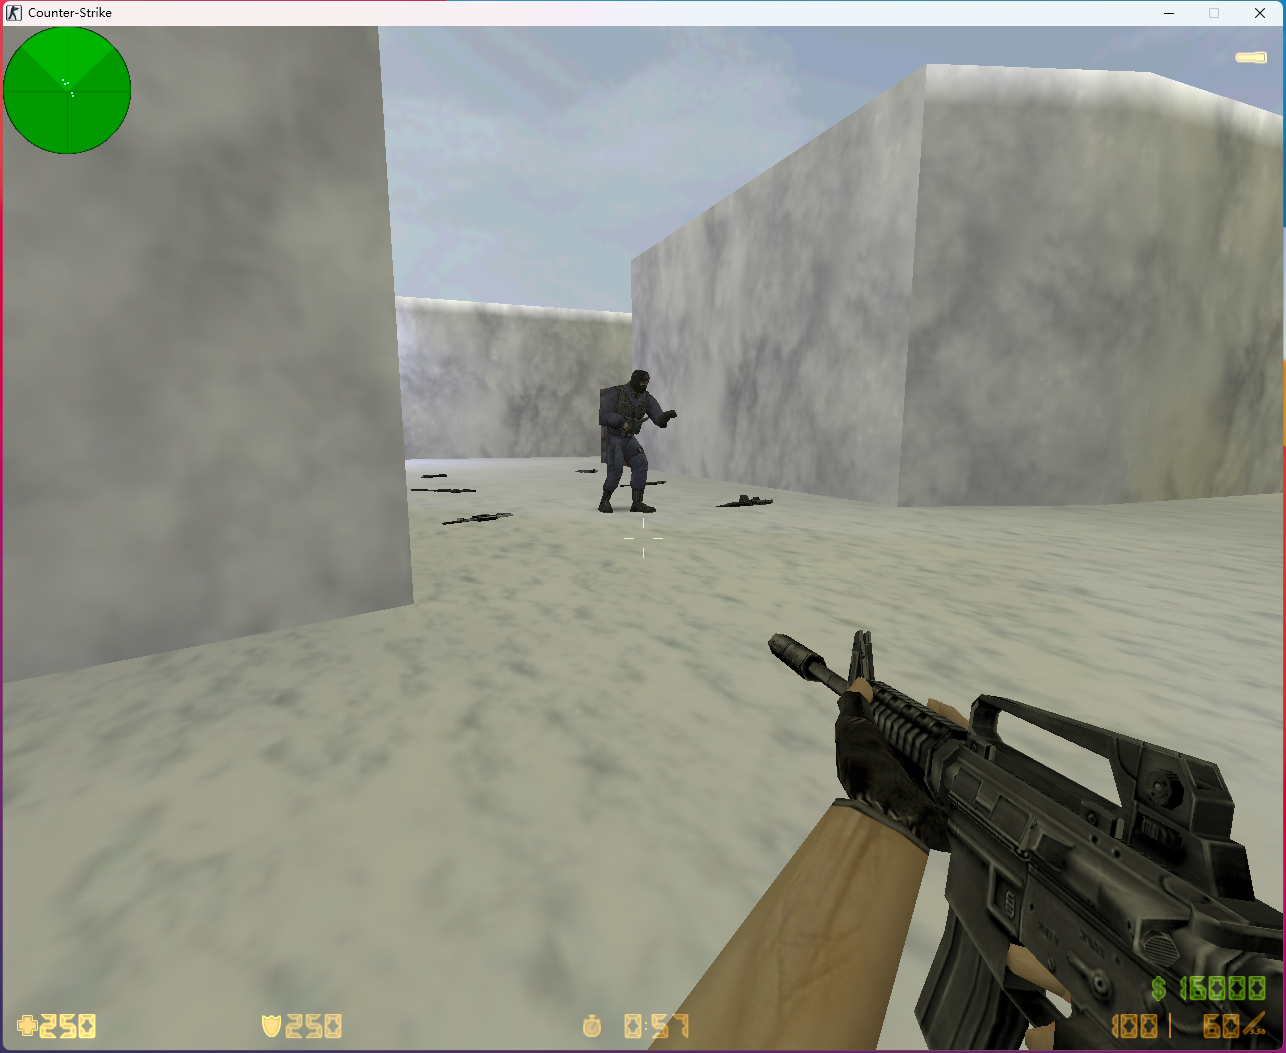C: (589, 368, 664, 519)
weapon: (441, 508, 517, 533), (719, 492, 772, 515), (410, 485, 472, 496), (420, 472, 449, 480)
